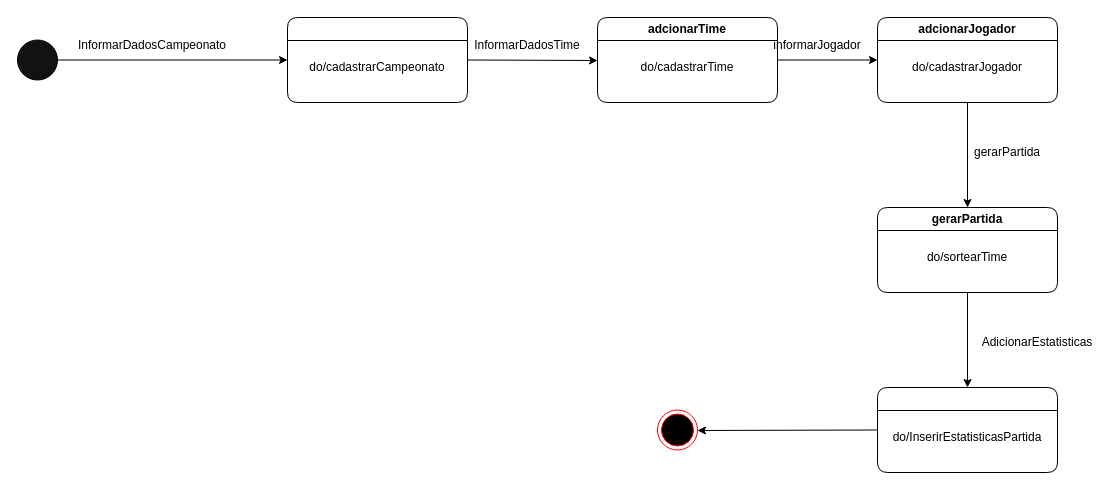
Image size: 1110x490. Some labels were removed from this diagram. Here are the shapes that lost their labels. From the top down, the box of each, then its label:
(286, 16, 468, 102): adicionarCampeonato
(876, 386, 1058, 472): selecionarPartida
